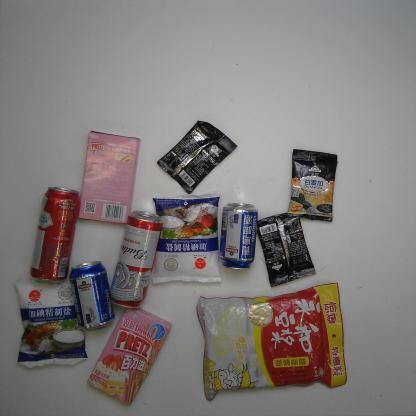Alcohol: (108, 209, 164, 309), (29, 185, 81, 285), (68, 259, 117, 332), (218, 202, 258, 270)
Dessert: (86, 306, 172, 406), (77, 129, 141, 225)
Instant Drink: (195, 282, 348, 401), (156, 120, 238, 195), (256, 212, 317, 288), (286, 147, 338, 223)
Seasoner: (11, 275, 90, 369), (152, 192, 223, 285)
